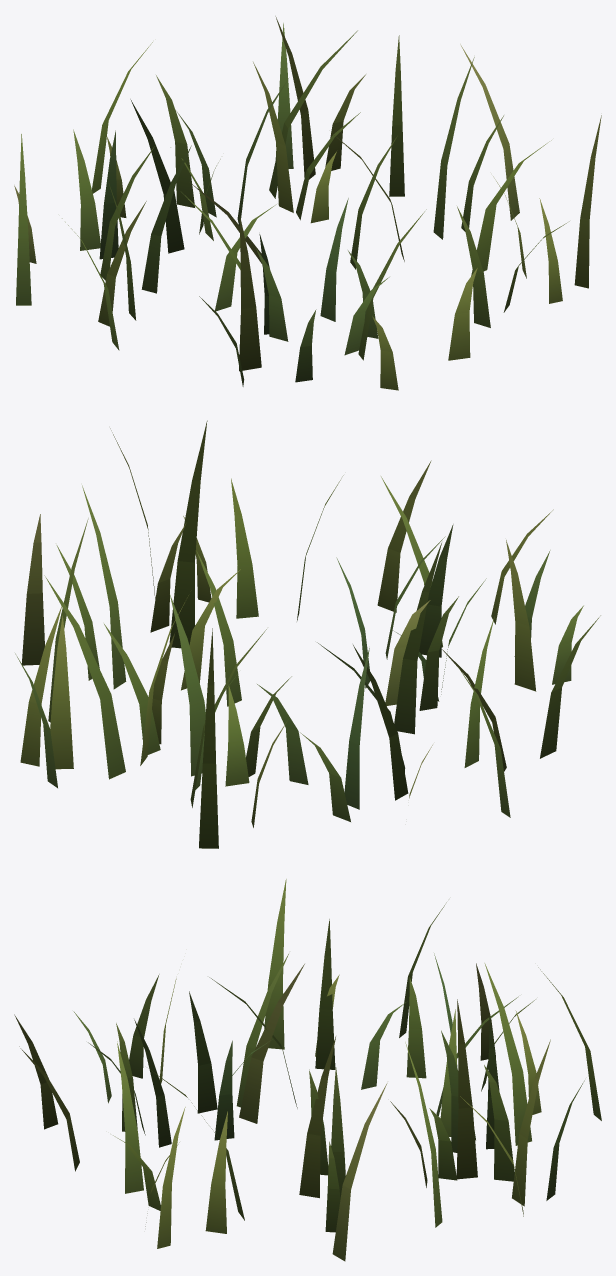
File: GR_plukje0.fbx
3 renders of one model, top to bottom at view 1: azimuth 30°, elevation 25°; view 2: azimuth 150°, elevation 25°; view 3: azimuth 270°, elevation 25°, orthographic. The views are drawn at different scales.
Parts seen in each view (by area): view 1: GR_plukje0; view 2: GR_plukje0; view 3: GR_plukje0.
Part boxes in pixels (left/top/right/bottom): GR_plukje0: left=14, top=16, right=601, bottom=390; GR_plukje0: left=15, top=420, right=600, bottom=848; GR_plukje0: left=14, top=879, right=601, bottom=1261.
Bounding box in the file's own units: 0.3012 × 0.104 × 0.3111.
1 material, 1 textured.
